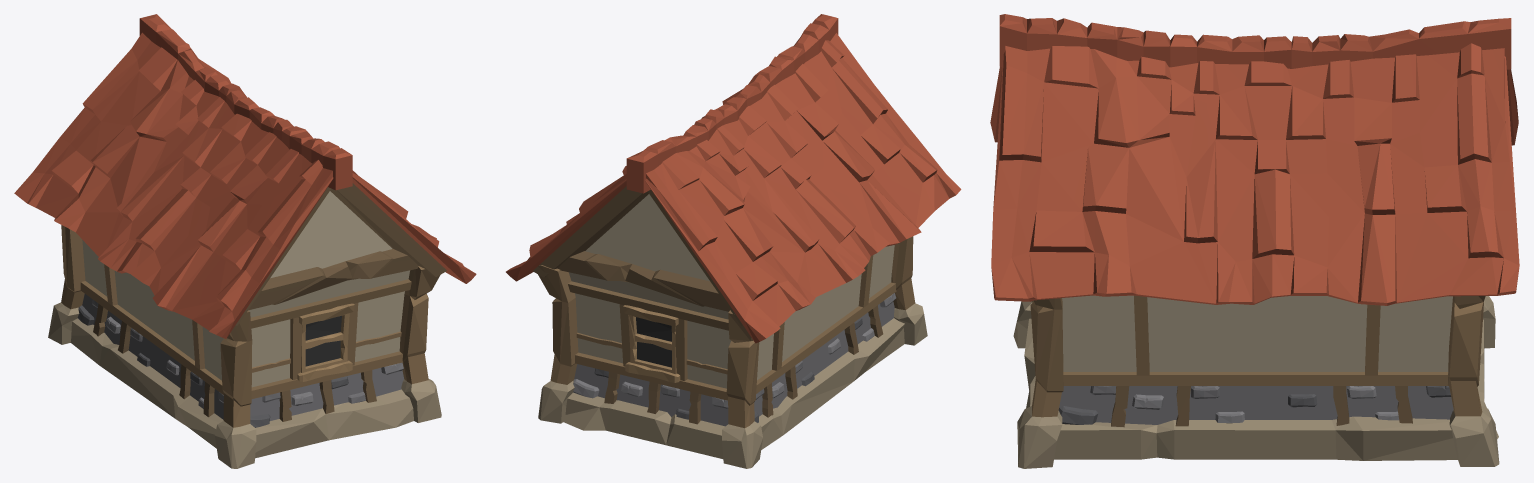
File: SM_Bld_House_Room_06.gltf
3 renders of one model, left to right at view 1: azimuth 30°, elevation 25°; view 2: azimuth 150°, elevation 25°; view 3: azimuth 270°, elevation 25°, orthographic. The views are drawn at different scales.
Visible parts, largest first — view 1: SM_Bld_House_Room_06; view 2: SM_Bld_House_Room_06; view 3: SM_Bld_House_Room_06.
Boxes of the visible parts, x1,y1,x2,y2 form: SM_Bld_House_Room_06: (14,14,476,468); SM_Bld_House_Room_06: (506,14,961,468); SM_Bld_House_Room_06: (990,14,1519,468).
Bounding box in the file's own units: 5.04 × 5.09 × 6.38.
1 material, 1 textured.
